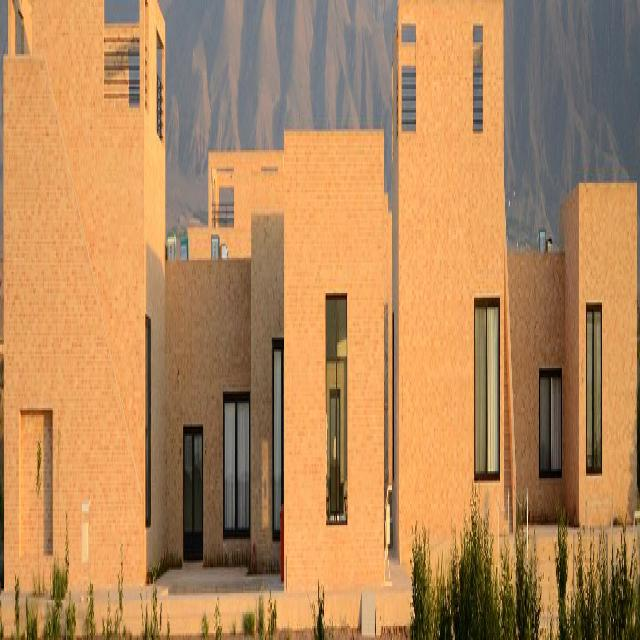Railing: (105, 41, 141, 115), (210, 200, 234, 227), (158, 70, 165, 147)
door: (184, 426, 204, 558)
plant: (25, 597, 37, 638), (13, 571, 19, 629), (214, 599, 221, 638), (202, 611, 208, 638)
wall: (4, 0, 638, 611)
windows: (326, 294, 348, 530), (476, 303, 500, 484), (224, 393, 252, 538), (586, 304, 602, 475), (540, 370, 562, 480), (274, 342, 284, 538), (402, 71, 416, 128), (147, 327, 150, 526), (473, 68, 482, 129), (401, 28, 416, 44), (474, 24, 483, 41)
